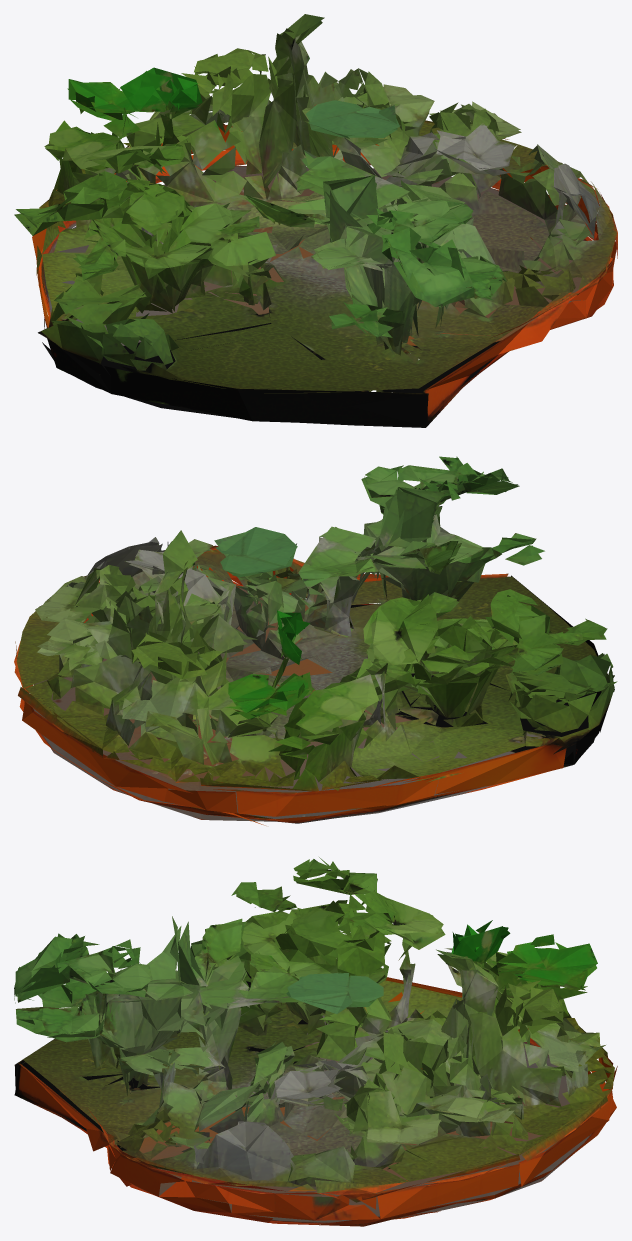
The model's file is hydroponic_farm_t1.fbx.
The picture shows the model from 3 angles, top to bottom: view 1: azimuth 30°, elevation 25°; view 2: azimuth 150°, elevation 25°; view 3: azimuth 270°, elevation 25°; orthographic projection. The views are drawn at different scales.
Parts seen in each view (by area): view 1: hydroponic_farm_t1; view 2: hydroponic_farm_t1; view 3: hydroponic_farm_t1.
Boxes of the visible parts, left/top/right/bottom form: hydroponic_farm_t1: left=14, top=14, right=617, bottom=427; hydroponic_farm_t1: left=14, top=456, right=617, bottom=825; hydroponic_farm_t1: left=14, top=857, right=617, bottom=1226.
Bounding box in the file's own units: 4.59 × 1.86 × 4.64.
1 material, 1 textured.
